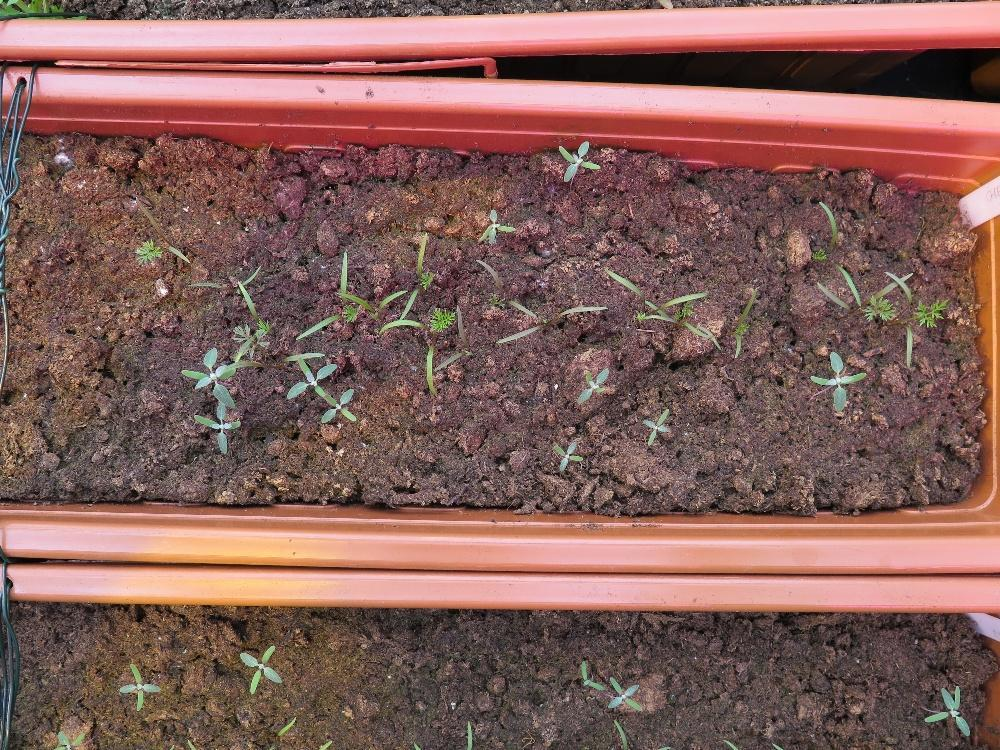weed: (808, 351, 867, 413), (921, 681, 970, 737), (238, 642, 282, 695), (116, 661, 161, 711), (556, 139, 600, 182), (476, 205, 516, 244), (606, 675, 642, 709), (575, 366, 609, 402), (641, 405, 669, 446), (551, 439, 584, 471), (579, 658, 605, 691)
